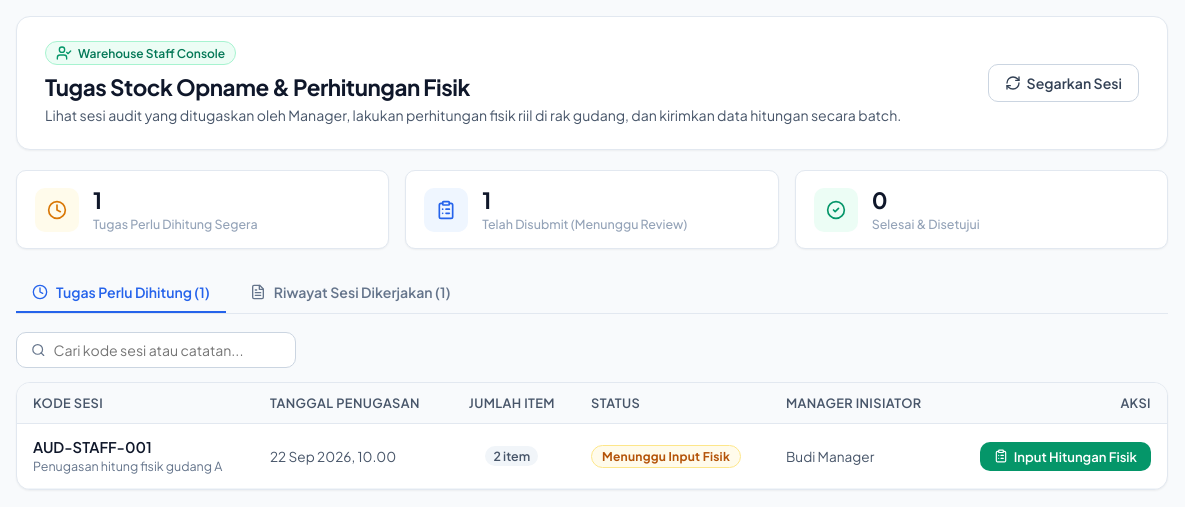
Scenario: StaffDashboard Component Tests › can switch between pending tasks and history tabs
The width and height of the screenshot is (1185, 507).
Click the button "Riwayat Sesi Dikerjakan (1)".
click(350, 293)  # box [234,273,466,313]
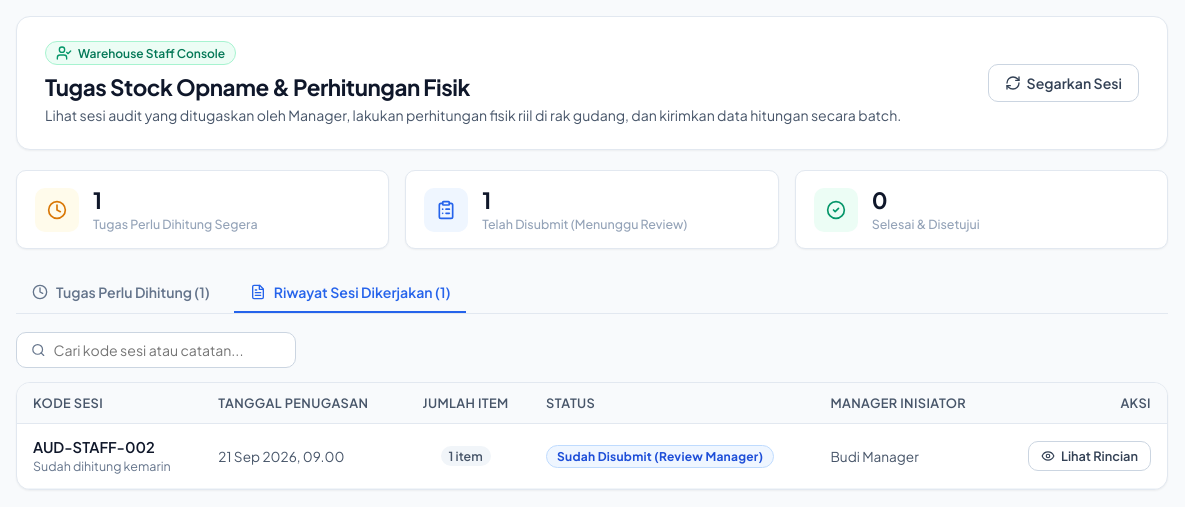
Now the text "AUD-STAFF-002" is shown, box [33,438,155,456]
Now the text "Sudah Disubmit (Review Manager)" is shown, box [546,445,774,468]
